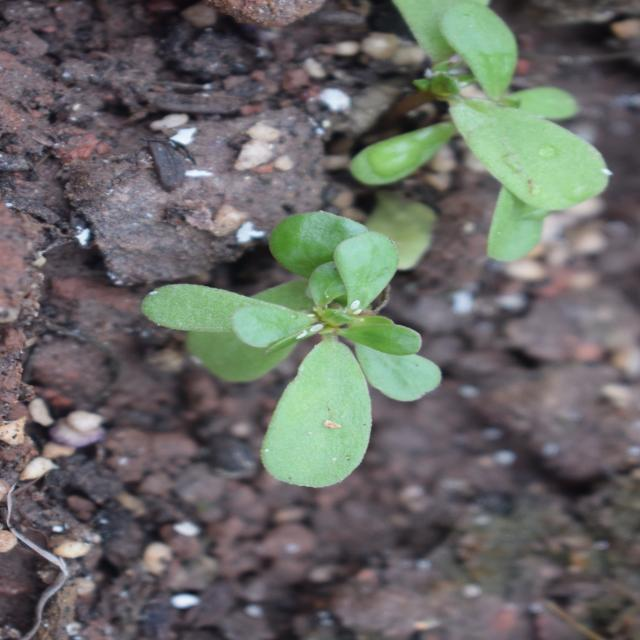purslane: (199, 214, 495, 498), (1, 16, 295, 272)
